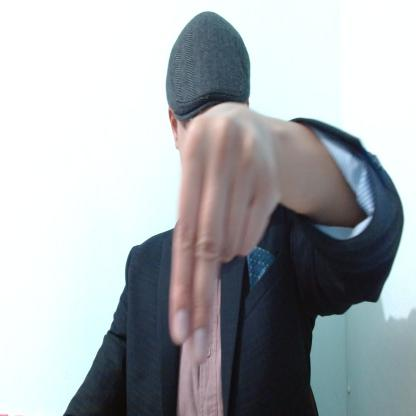N: (171, 103, 283, 367)
